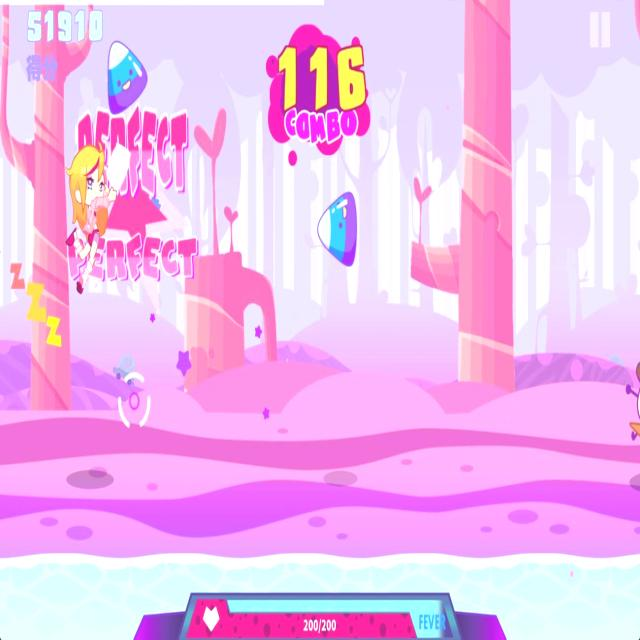jian: (104, 36, 150, 120), (316, 187, 360, 269)
